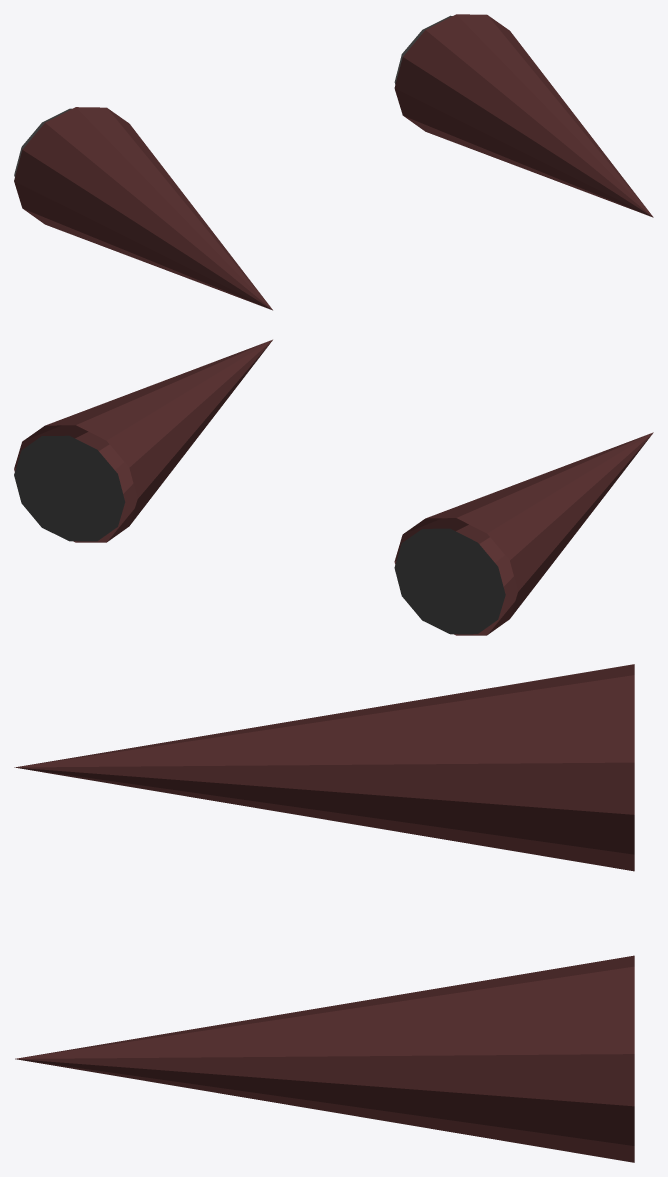
The model's file is Bunner_tb2.obj.
3 views of the same model, one above another, from view 1: azimuth 30°, elevation 25°; view 2: azimuth 150°, elevation 25°; view 3: azimuth 270°, elevation 25° (orthographic). The views are drawn at different scales.
Visible parts, largest first — view 1: ShapeIndexedFaceSet.026_ShapeIndexedFaceSet.027, ShapeIndexedFaceSet.025_ShapeIndexedFaceSet.026, ShapeIndexedFaceSet.017_ShapeIndexedFaceSet.018; view 2: ShapeIndexedFaceSet.017_ShapeIndexedFaceSet.018, ShapeIndexedFaceSet.025_ShapeIndexedFaceSet.026, ShapeIndexedFaceSet.026_ShapeIndexedFaceSet.027; view 3: ShapeIndexedFaceSet.025_ShapeIndexedFaceSet.026, ShapeIndexedFaceSet.026_ShapeIndexedFaceSet.027.
Part boxes in pixels (left/top/right/bottom): ShapeIndexedFaceSet.026_ShapeIndexedFaceSet.027: left=394, top=14, right=653, bottom=217; ShapeIndexedFaceSet.025_ShapeIndexedFaceSet.026: left=14, top=107, right=272, bottom=310; ShapeIndexedFaceSet.017_ShapeIndexedFaceSet.018: left=14, top=15, right=452, bottom=176; ShapeIndexedFaceSet.017_ShapeIndexedFaceSet.018: left=14, top=435, right=505, bottom=634; ShapeIndexedFaceSet.025_ShapeIndexedFaceSet.026: left=394, top=432, right=653, bottom=635; ShapeIndexedFaceSet.026_ShapeIndexedFaceSet.027: left=14, top=339, right=272, bottom=542; ShapeIndexedFaceSet.025_ShapeIndexedFaceSet.026: left=14, top=664, right=634, bottom=871; ShapeIndexedFaceSet.026_ShapeIndexedFaceSet.027: left=15, top=955, right=634, bottom=1162.
Size of the model in its own units: 236 by 52.5 by 165.
